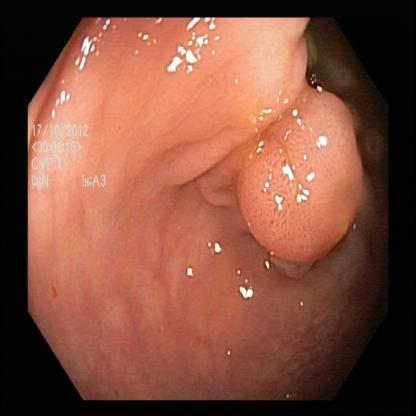Labels: (29, 120, 115, 194)
Polyps: (231, 96, 373, 270)
